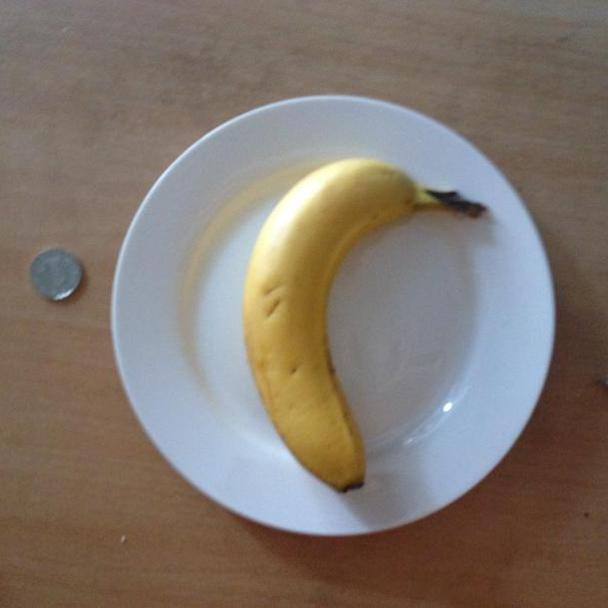banana: (242, 156, 467, 497)
